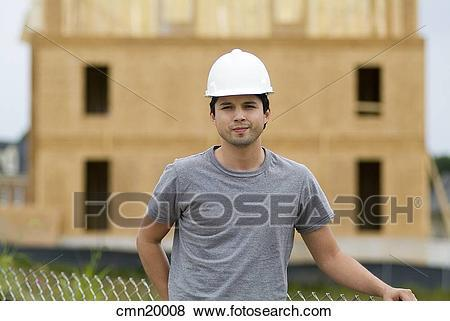helmet: (206, 49, 275, 97)
